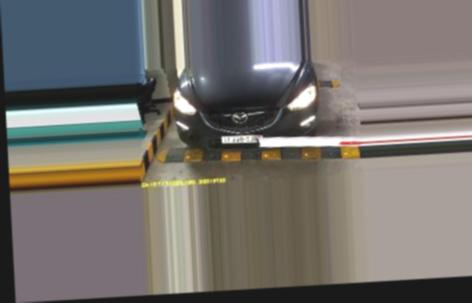License_Plate: (218, 132, 263, 146)
